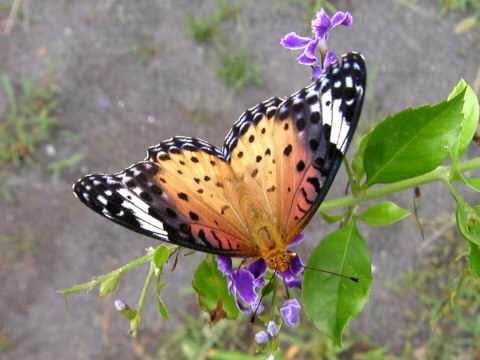Argyreus hyperbius: (67, 49, 371, 322)
butterfly: (69, 51, 373, 324)
